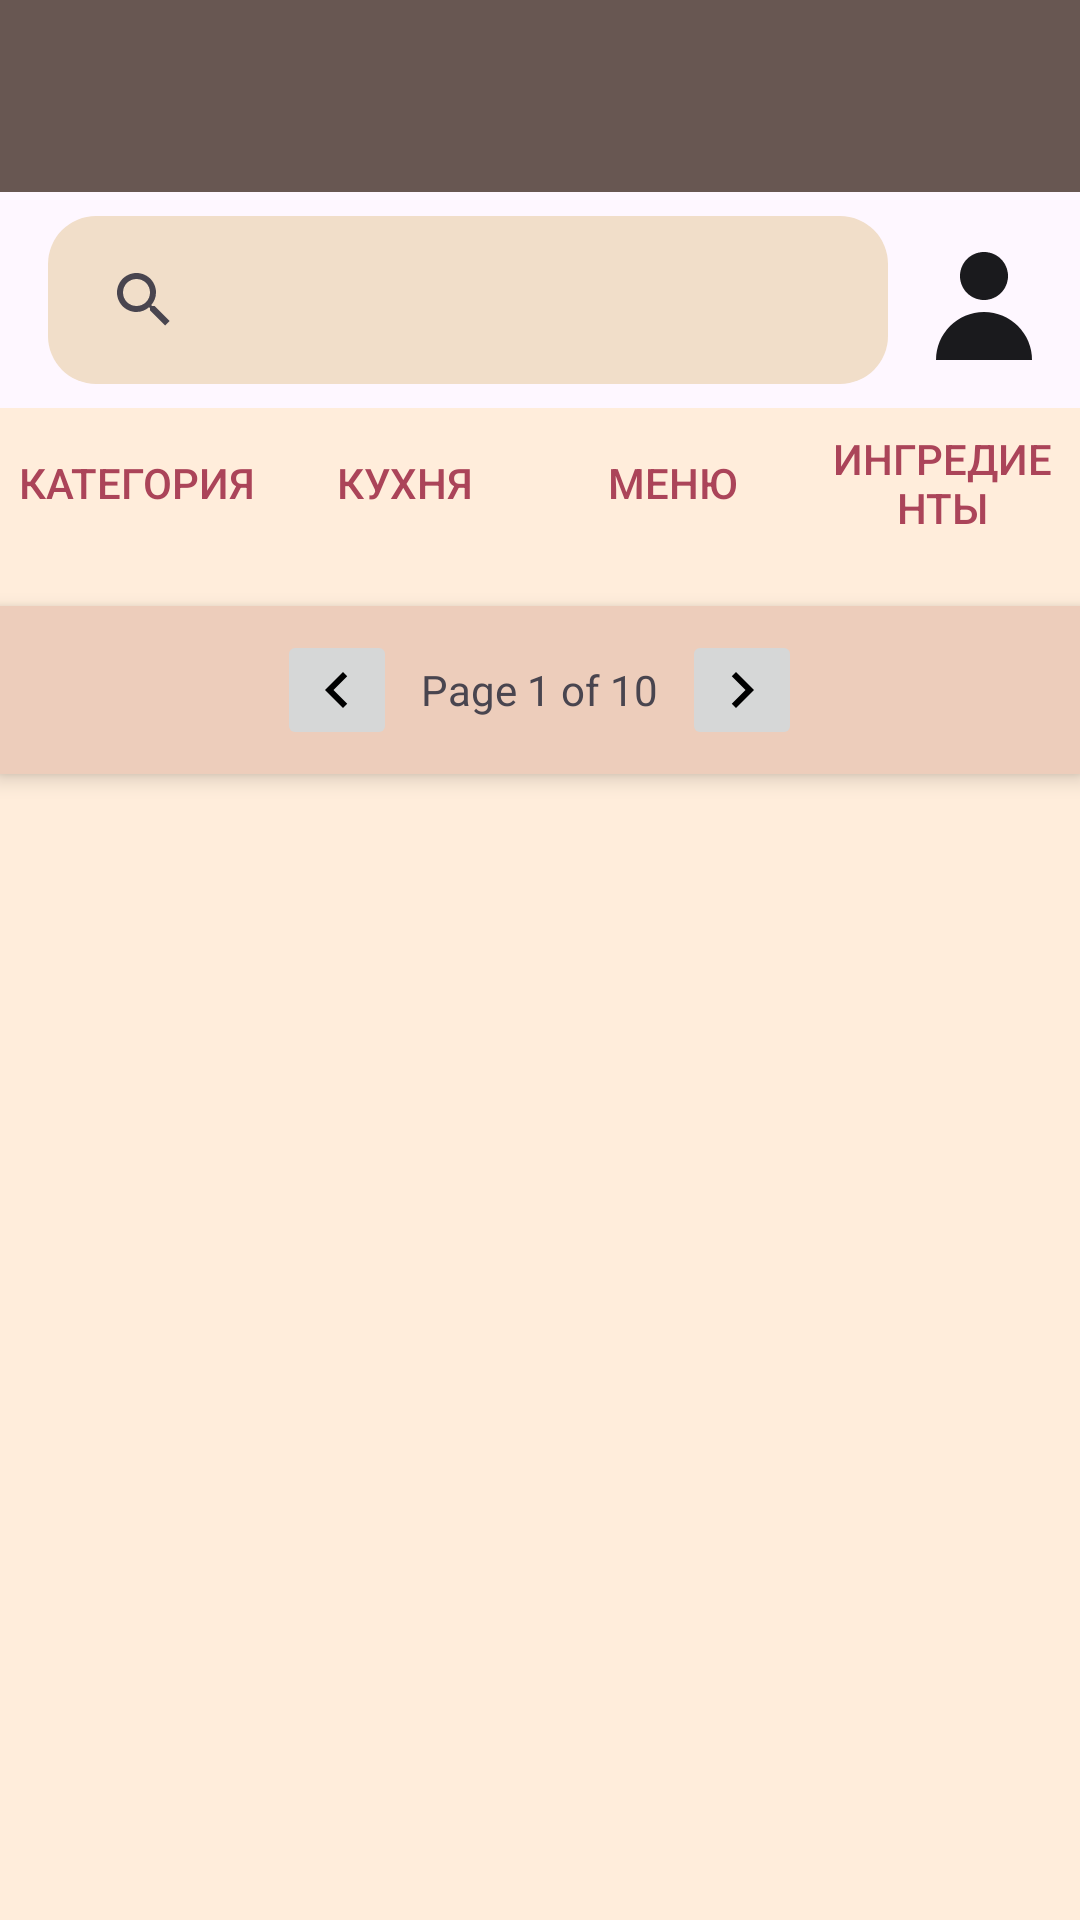

Screen size 1080 × 1920. Icon name, then its box in pixels as (left=x1, top=y1, right=x2, bottom=y2):
Next Page: (left=694, top=648, right=790, bottom=732)
Previous Page: (left=289, top=648, right=385, bottom=732)
Profile Icon: (left=936, top=252, right=1032, bottom=360)
